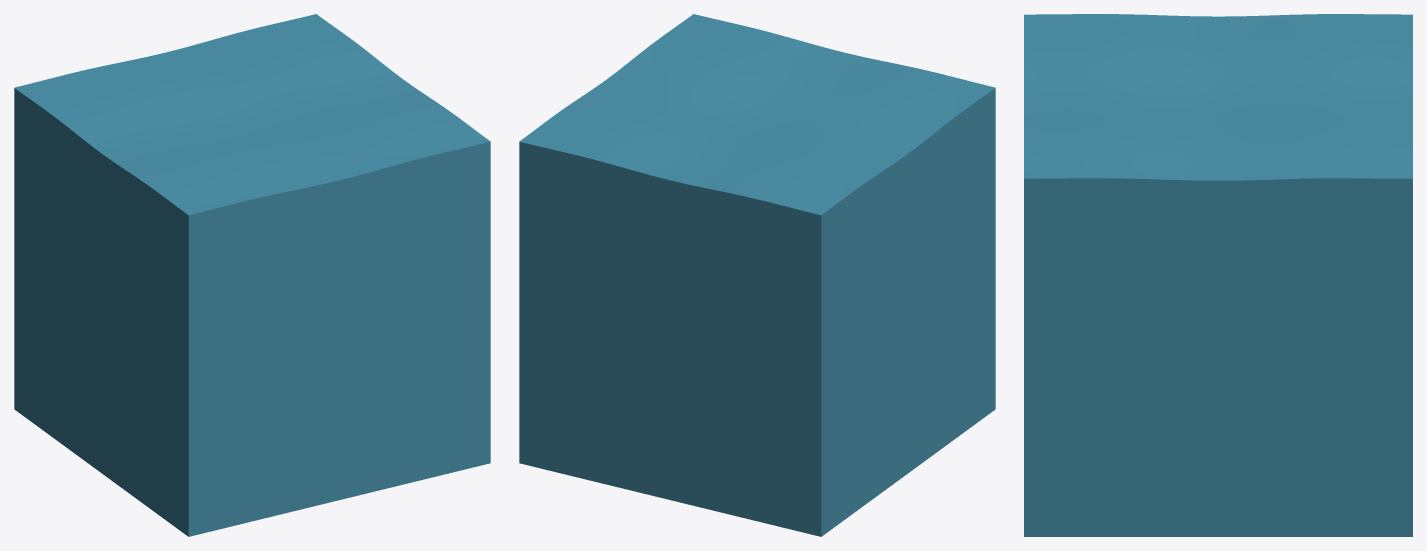
The model's file is slpool_wave23.glb.
The picture shows the model from 3 angles, left to right: view 1: azimuth 30°, elevation 25°; view 2: azimuth 150°, elevation 25°; view 3: azimuth 270°, elevation 25°; orthographic projection. The views are drawn at different scales.
Parts seen in each view (by area): view 1: poolWater; view 2: poolWater; view 3: poolWater.
Boxes of the visible parts, x1,y1,x2,y2 form: poolWater: (14,14,490,536); poolWater: (519,14,995,536); poolWater: (1024,14,1412,536).
Size of the model in its own units: 2 by 2.04 by 2.
